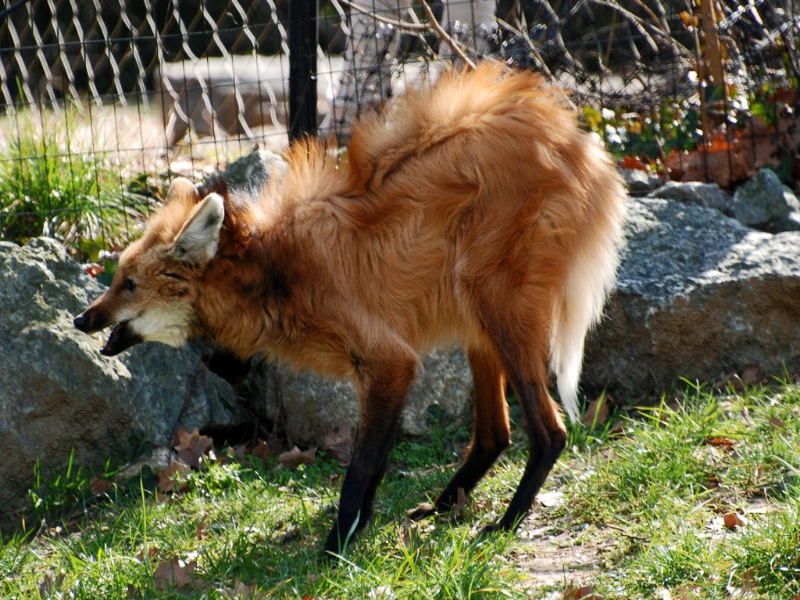fox: (71, 64, 633, 577)
